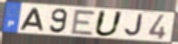4: (147, 13, 168, 41)
9: (49, 8, 69, 34)
A: (19, 7, 45, 32)
E: (70, 9, 98, 37)
J: (123, 13, 144, 38)
U: (93, 10, 126, 38)
